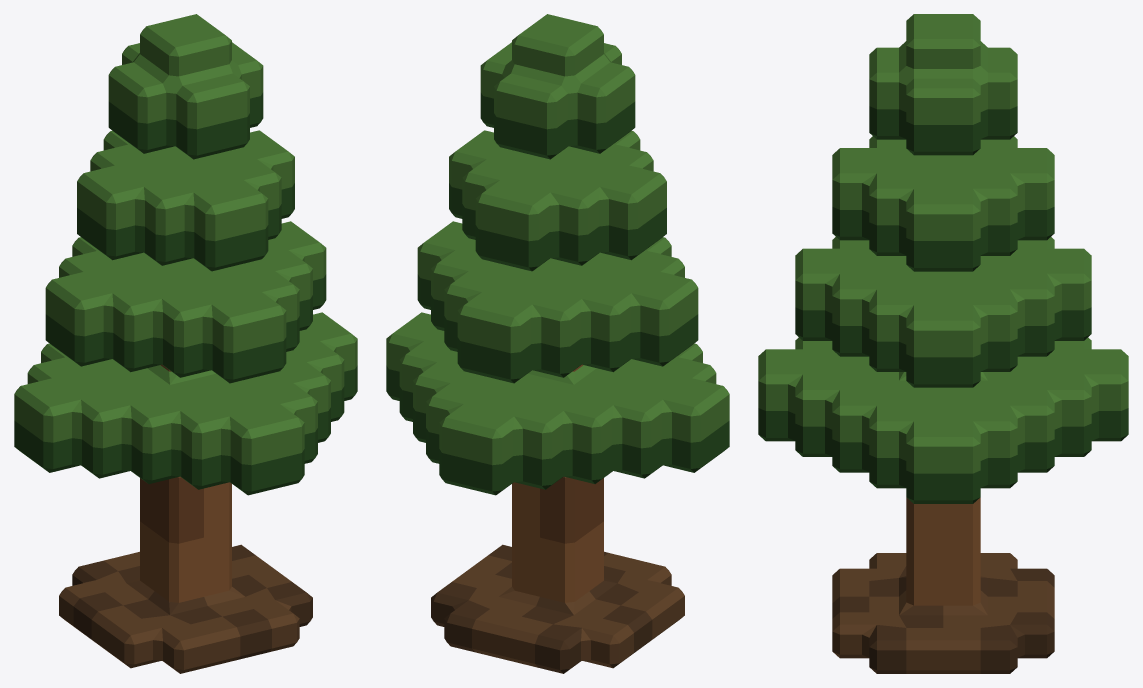
Rendered from prop_sapling_0_voxel.fbx.
3 renders of one model, left to right at view 1: azimuth 30°, elevation 25°; view 2: azimuth 150°, elevation 25°; view 3: azimuth 270°, elevation 25°, orthographic.
Visible parts, largest first — view 1: prop_sapling_0_voxel; view 2: prop_sapling_0_voxel; view 3: prop_sapling_0_voxel.
Boxes of the visible parts, x1,y1,x2,y2 form: prop_sapling_0_voxel: (14, 14, 357, 673); prop_sapling_0_voxel: (386, 14, 729, 673); prop_sapling_0_voxel: (758, 14, 1128, 673).
Bounding box in the file's own units: 0.8 × 1.44 × 0.8.
